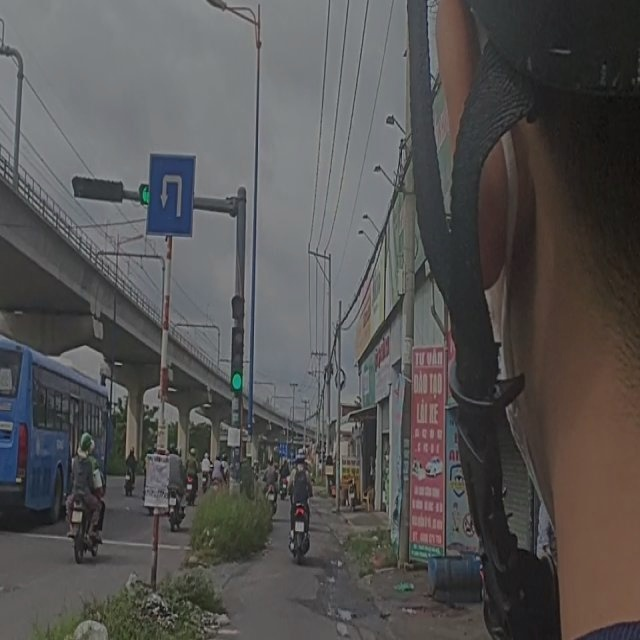I.409: (147, 144, 203, 253)
